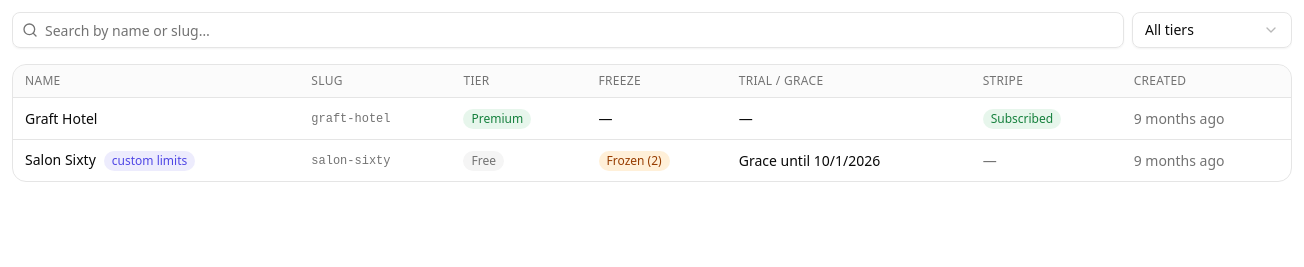
Test: TenantTable › AC5 — a search term re-queries the server with ?q= (not a client-side filter), and an empty result renders EmptyState
Check: the link "Graft Hotel" is shown, box [25,108,98,128]
Type "nonexistent" into the search field named "Search tenants".
click(568, 30); type("nonexistent")  # box [12,12,1124,48]
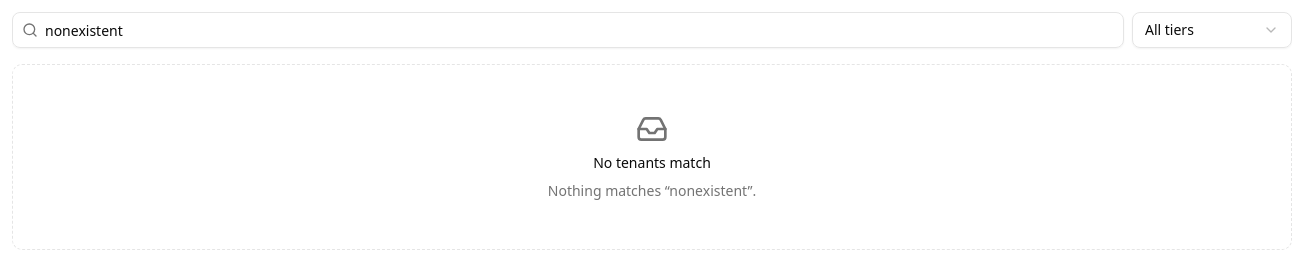
Check: the text "No tenants match" is shown, box [593,153,711,173]
Check: the table is gone
